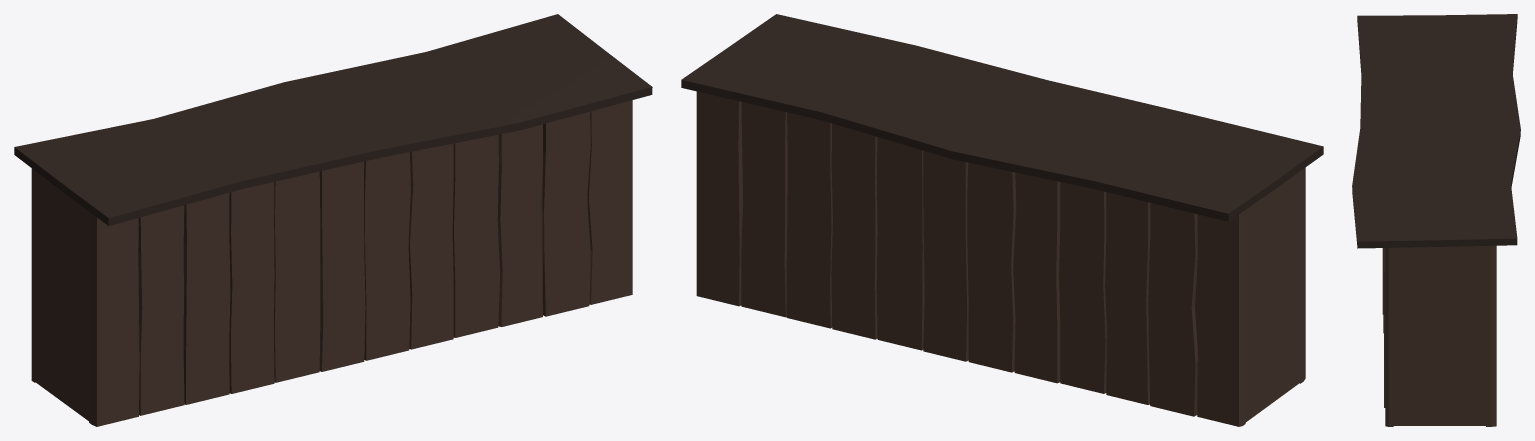
The model's file is Bar.fbx.
The picture shows the model from 3 angles, left to right: view 1: azimuth 30°, elevation 25°; view 2: azimuth 150°, elevation 25°; view 3: azimuth 270°, elevation 25°; orthographic projection. The views are drawn at different scales.
Visible parts, largest first — view 1: WallR, Woodtop, Inside, WallL; view 2: WallL, Woodtop, Inside, WallR; view 3: Woodtop, Inside, WallL, WallR.
Boxes of the visible parts, x1,y1,x2,y2 form: WallR: [89, 100, 632, 426]; Woodtop: [14, 14, 652, 225]; Inside: [34, 171, 587, 420]; WallL: [31, 168, 35, 382]; WallL: [696, 91, 1245, 426]; Woodtop: [681, 14, 1323, 221]; Inside: [1245, 171, 1300, 422]; WallR: [1300, 167, 1305, 383]; Woodtop: [1352, 14, 1520, 248]; Inside: [1393, 246, 1485, 425]; WallL: [1486, 245, 1496, 426]; WallR: [1382, 248, 1393, 426].
Size of the model in its own units: 6.76 by 2.65 by 2.14.
